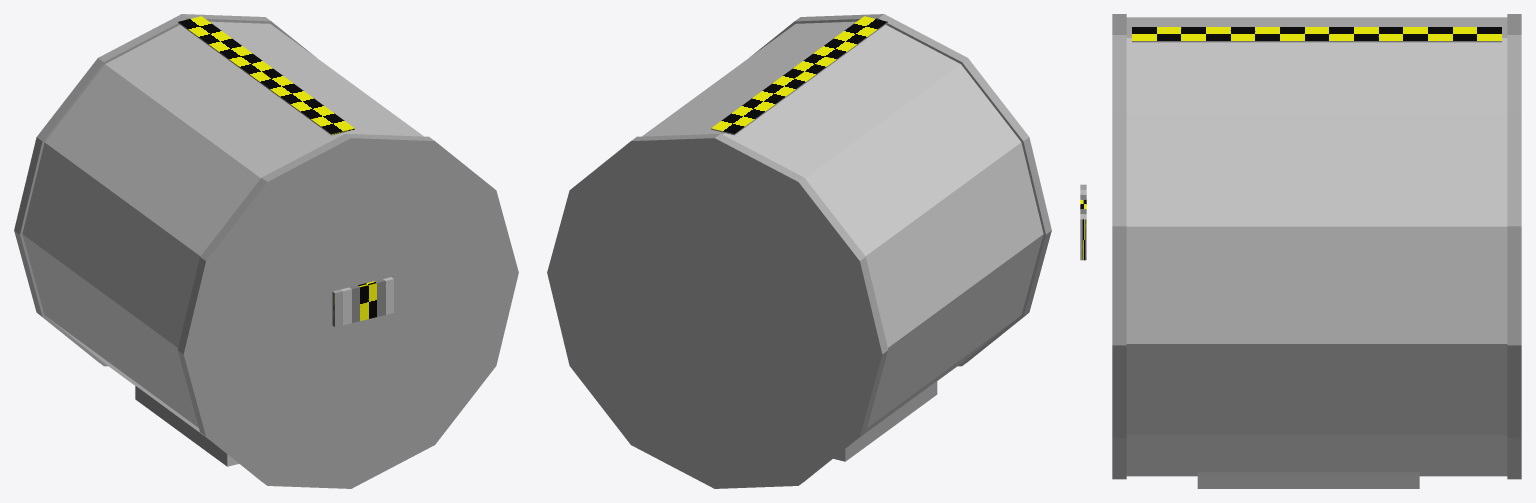
The model's file is transit_pod_temporary.glb.
3 renders of one model, left to right at view 1: azimuth 30°, elevation 25°; view 2: azimuth 150°, elevation 25°; view 3: azimuth 270°, elevation 25°, orthographic. The views are drawn at different scales.
Visible parts, largest first — view 1: Pod_End_-0, Pod_Glass_Capsule, Pod_End_0, Hazard_Seam, Occupancy_Light_temppod, Pod_Seat; view 2: Pod_End_0, Pod_Glass_Capsule, Pod_End_-0, Hazard_Seam, Pod_Seat; view 3: Pod_Glass_Capsule, Pod_End_0, Pod_End_-0, Hazard_Seam, Pod_Seat, Occupancy_Light_temppod.
Boxes of the visible parts, x1=… form: Pod_End_-0: x1=177, y1=133, x2=518, y2=488; Pod_Glass_Capsule: x1=22, y1=21, x2=423, y2=437; Pod_End_0: x1=14, y1=14, x2=315, y2=366; Hazard_Seam: x1=178, y1=16, x2=354, y2=135; Occupancy_Light_temppod: x1=332, y1=277, x2=393, y2=327; Pod_Seat: x1=135, y1=386, x2=238, y2=466; Pod_End_0: x1=547, y1=133, x2=888, y2=488; Pod_Glass_Capsule: x1=642, y1=21, x2=1043, y2=437; Pod_End_-0: x1=750, y1=14, x2=1051, y2=366; Hazard_Seam: x1=711, y1=16, x2=887, y2=135; Pod_Seat: x1=833, y1=381, x2=937, y2=461; Pod_Glass_Capsule: x1=1126, y1=17, x2=1507, y2=476; Pod_End_0: x1=1507, y1=14, x2=1521, y2=479; Pod_End_-0: x1=1112, y1=14, x2=1126, y2=479; Hazard_Seam: x1=1132, y1=27, x2=1501, y2=42; Pod_Seat: x1=1197, y1=472, x2=1419, y2=488; Occupancy_Light_temppod: x1=1080, y1=184, x2=1086, y2=260.
Size of what is drawn, in the model's own units: 1.14 by 1.14 by 1.07.
1 material, 1 textured.
